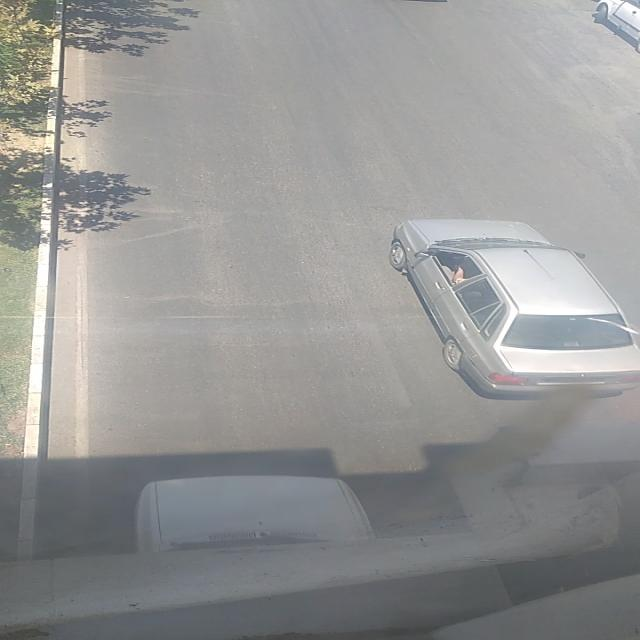car: (384, 220, 640, 398), (127, 474, 380, 548), (594, 0, 640, 49)
